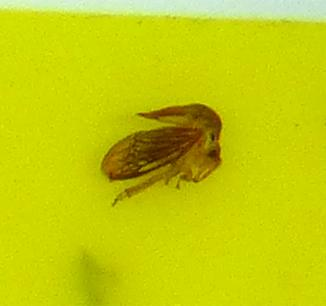Hemiptera: (100, 100, 226, 206)
